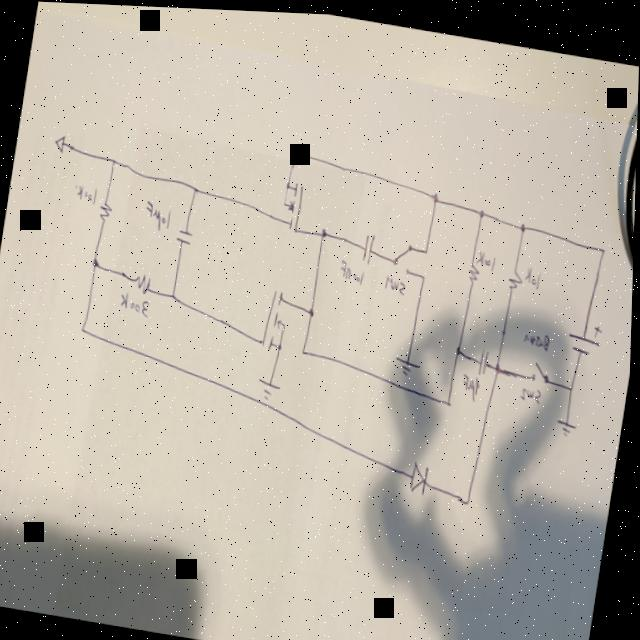capacitor: (361, 225, 376, 261), (175, 221, 195, 245), (478, 340, 492, 370)
diode: (410, 453, 433, 491)
ground: (256, 373, 284, 399), (394, 349, 423, 373), (556, 408, 579, 431)
junction: (91, 252, 102, 268), (494, 355, 504, 369), (192, 179, 201, 193), (110, 151, 118, 165), (432, 185, 440, 198), (478, 201, 486, 214), (520, 214, 527, 228), (321, 222, 328, 235), (456, 338, 463, 351), (467, 489, 474, 502), (171, 286, 178, 299), (309, 303, 317, 314), (569, 375, 577, 386), (292, 142, 299, 154), (81, 320, 88, 331), (447, 391, 454, 402), (600, 238, 607, 249), (421, 267, 428, 277), (424, 240, 430, 251), (302, 342, 308, 353)
resistor: (133, 268, 154, 293), (507, 260, 526, 285), (97, 197, 115, 221), (467, 256, 481, 278)
source: (565, 312, 606, 351)
switch: (392, 234, 415, 271), (528, 352, 554, 380)
terminal: (51, 128, 68, 154)
text: (141, 195, 174, 231), (119, 288, 152, 314), (460, 365, 483, 398), (339, 255, 367, 281), (523, 323, 553, 345), (74, 178, 100, 203), (384, 268, 409, 290), (524, 257, 544, 284), (476, 243, 499, 266), (520, 377, 545, 398)
transistor: (260, 282, 292, 349), (278, 175, 307, 229)
